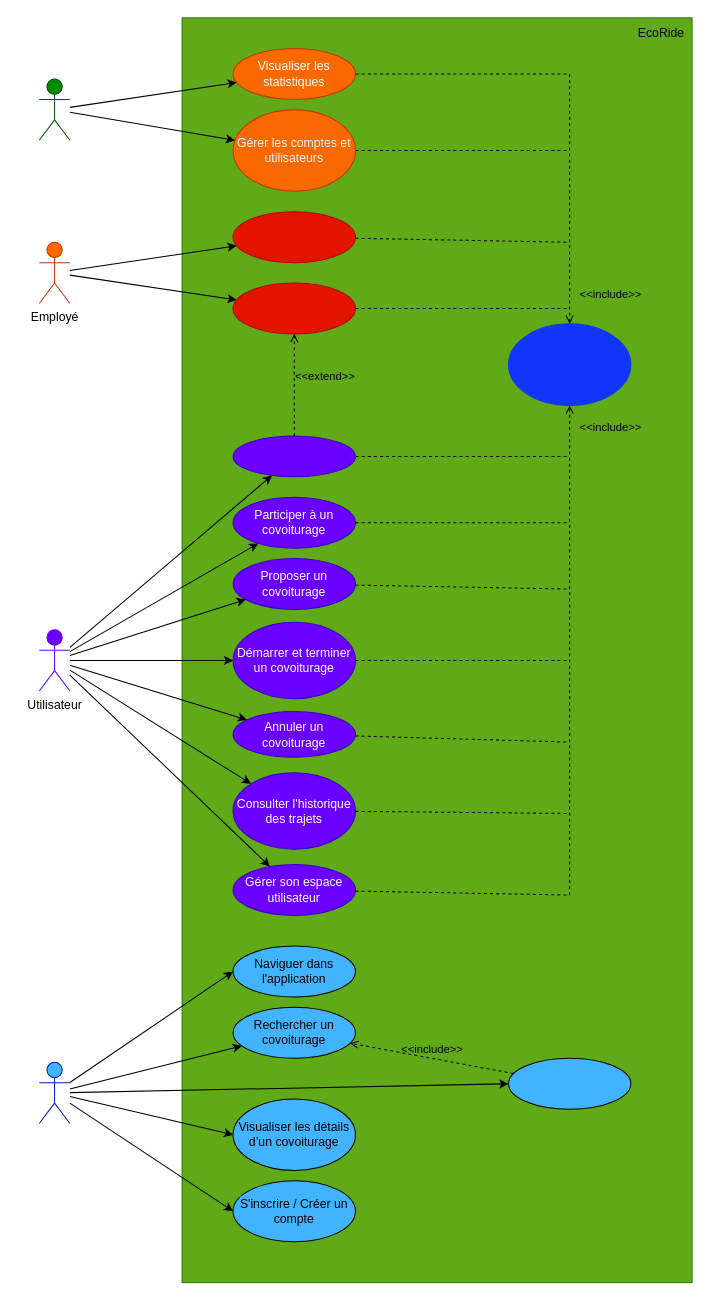
This 710x1301 diagram has some shape labels left out. Here are the shapes that lost their labels. From the top down, the centre of each, then its label:
(x=54, y=109): Administateur
(x=293, y=237): Voir les litiges
(x=293, y=308): Gérer les avis
(x=569, y=364): Se connecter
(x=293, y=456): Dépose un avis
(x=54, y=1092): Visiteur
(x=569, y=1083): Filtrer la recherche
